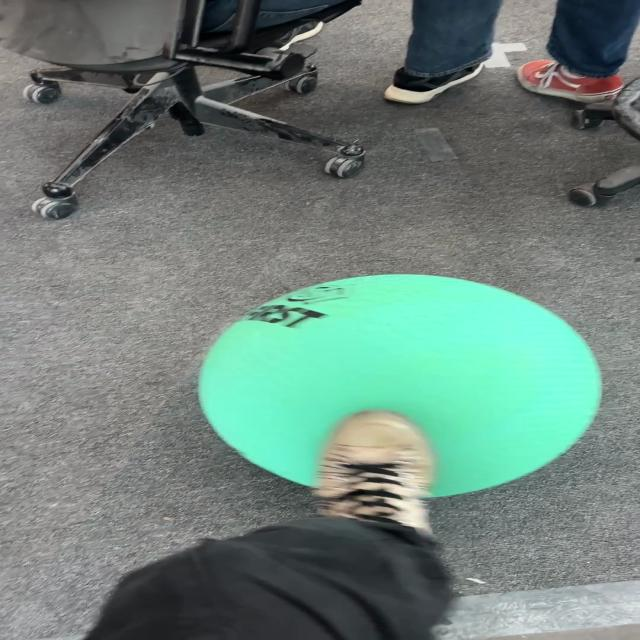Algae: (196, 272, 603, 499)
